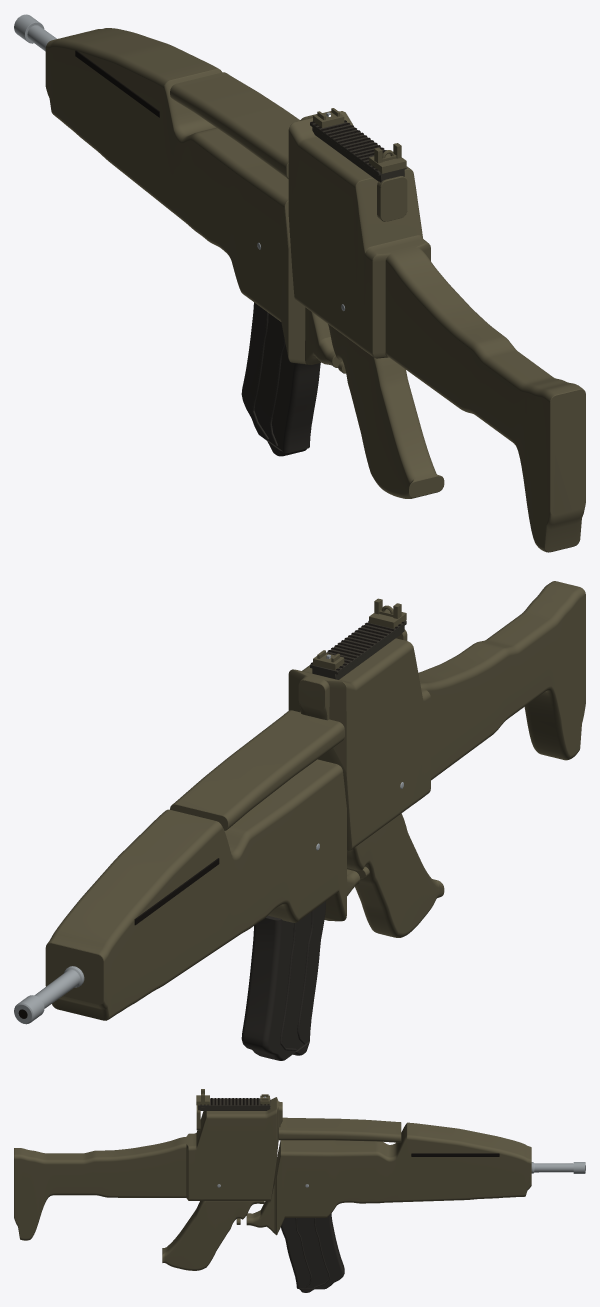
The model's file is ar-ratio.glb.
3 renders of one model, top to bottom at view 1: azimuth 30°, elevation 25°; view 2: azimuth 150°, elevation 25°; view 3: azimuth 270°, elevation 25°, orthographic. The views are drawn at different scales.
Parts seen in each view (by area): view 1: M8_Body, M8_Mag, M8_IronRear; view 2: M8_Body, M8_Mag, M8_IronRear, M8_Hider; view 3: M8_Body, M8_Mag.
Part boxes in pixels (box(x1,y1,x2,y2)): M8_Body: box(27, 25, 585, 552); M8_Mag: box(241, 302, 320, 456); M8_IronRear: box(369, 143, 406, 173); M8_Body: box(35, 581, 585, 1020); M8_Mag: box(241, 901, 325, 1060); M8_IronRear: box(369, 598, 406, 628); M8_Hider: box(14, 995, 44, 1024); M8_Body: box(14, 1097, 573, 1270); M8_Mag: box(281, 1213, 344, 1292).
Size of the model in its own units: 0.0538 by 0.3183 by 0.8376.
